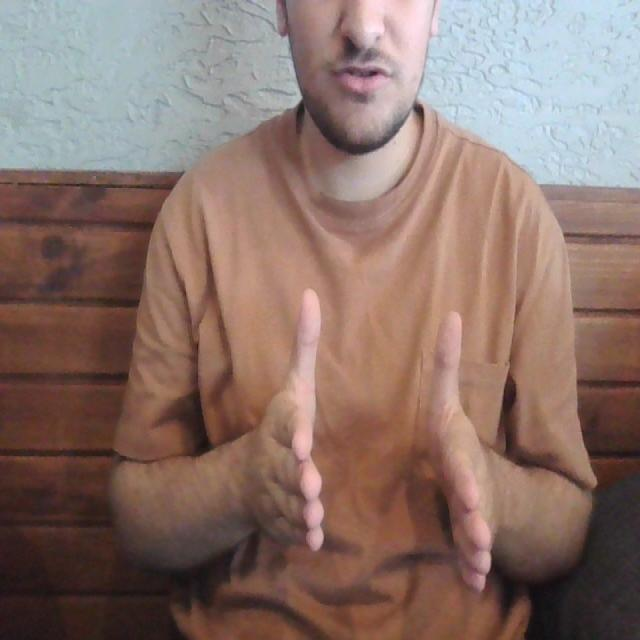Nasil: (241, 282, 508, 598)
